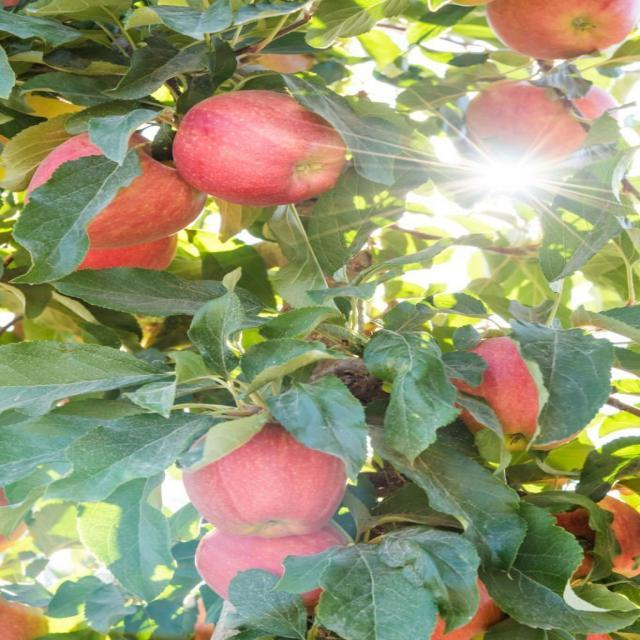Red Apple: (37, 132, 201, 241), (180, 92, 346, 198), (191, 431, 349, 530), (455, 337, 582, 440), (198, 524, 360, 600), (477, 77, 622, 161), (541, 493, 640, 580), (52, 218, 176, 284), (497, 1, 640, 56), (421, 568, 497, 640), (252, 44, 321, 86), (1, 586, 49, 640), (1, 493, 37, 553), (573, 608, 625, 640), (187, 602, 225, 640)
